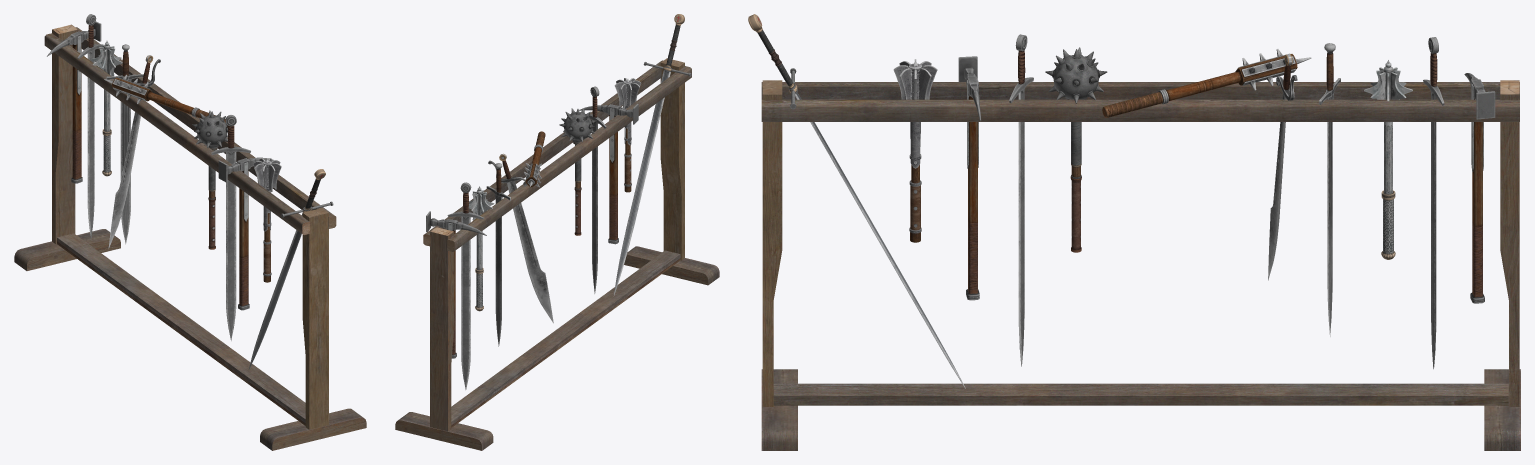
Rendered from Weapon_Pack_03.fbx.
The picture shows the model from 3 angles, left to right: view 1: azimuth 30°, elevation 25°; view 2: azimuth 150°, elevation 25°; view 3: azimuth 270°, elevation 25°; orthographic projection. The views are drawn at different scales.
Visible parts, largest first — view 1: Weapon_Pack_03_LOD0; view 2: Weapon_Pack_03_LOD0; view 3: Weapon_Pack_03_LOD0.
Part boxes in pixels (x1,y1,x2,y2): Weapon_Pack_03_LOD0: [14, 14, 366, 450]; Weapon_Pack_03_LOD0: [395, 14, 719, 450]; Weapon_Pack_03_LOD0: [748, 14, 1520, 450].
Size of what is drawn, in the model's own units: 43.51 by 120 by 210.
